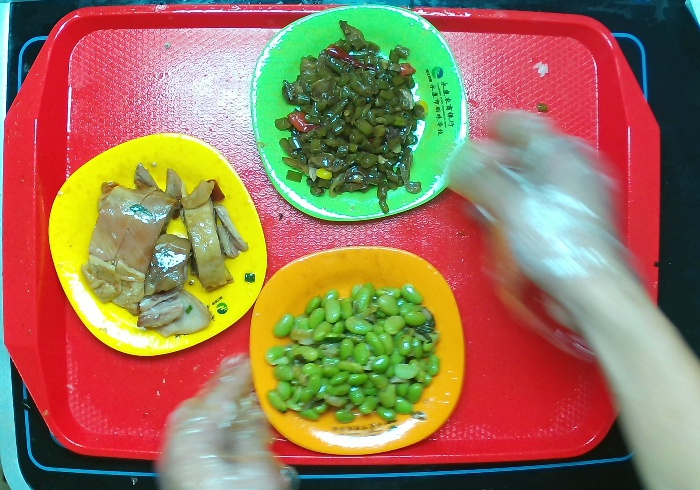YKMZ-Huang_Se_Fang_Die: (47, 131, 269, 358)
YKMZ-Ju_Se_Fang_Die: (248, 244, 466, 457)
YKMZ-Lv_Se_Fang_Die: (249, 2, 470, 222)
